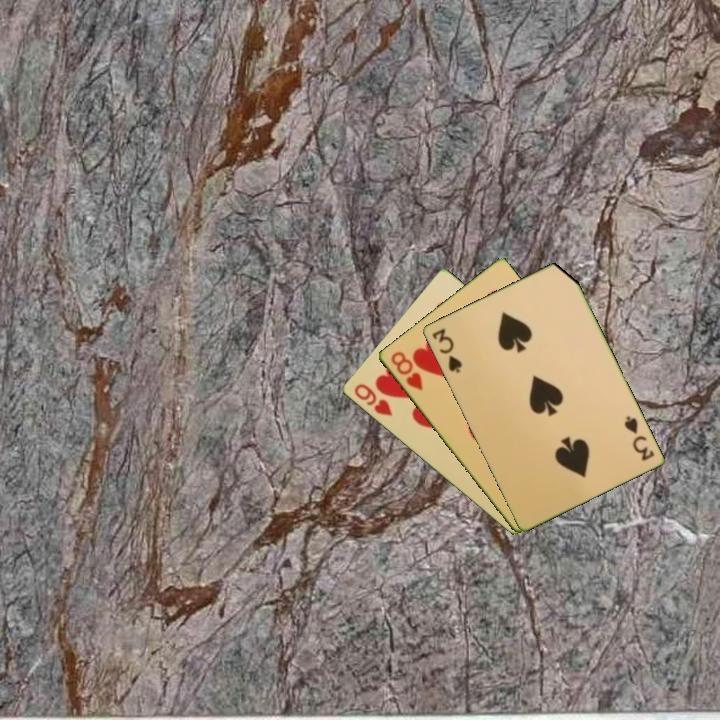3s: (428, 324, 465, 376), (620, 412, 657, 464)
8h: (387, 348, 425, 393)
9h: (350, 380, 395, 419)
